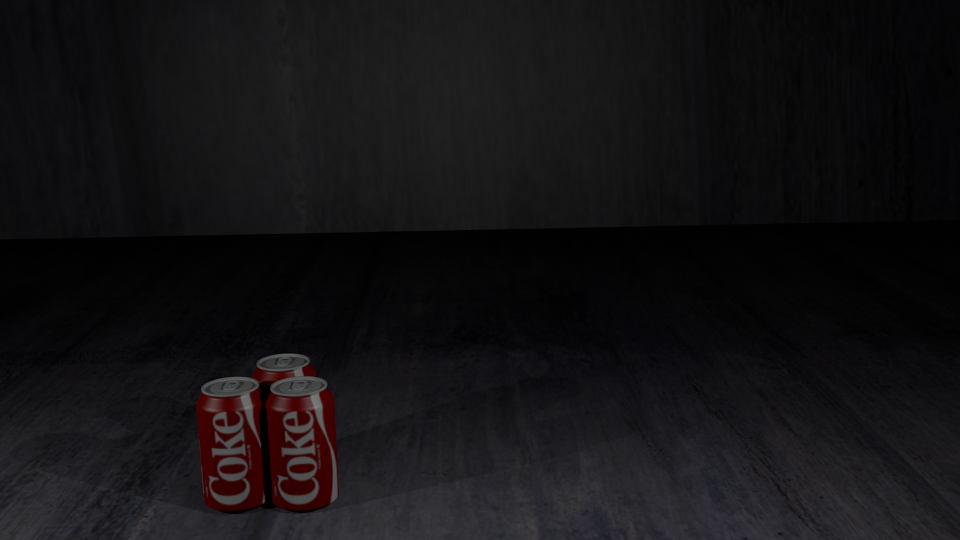cola_can: (196, 377, 268, 507), (265, 377, 336, 505), (252, 354, 315, 476)
